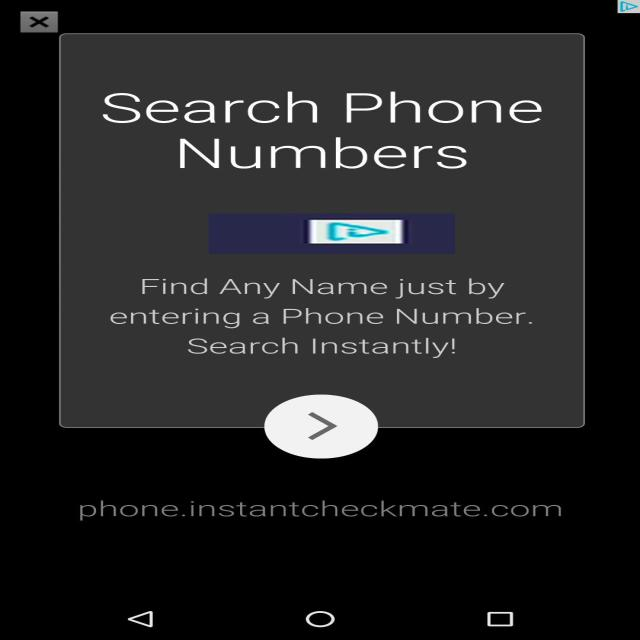sneaking: (209, 213, 455, 254)
